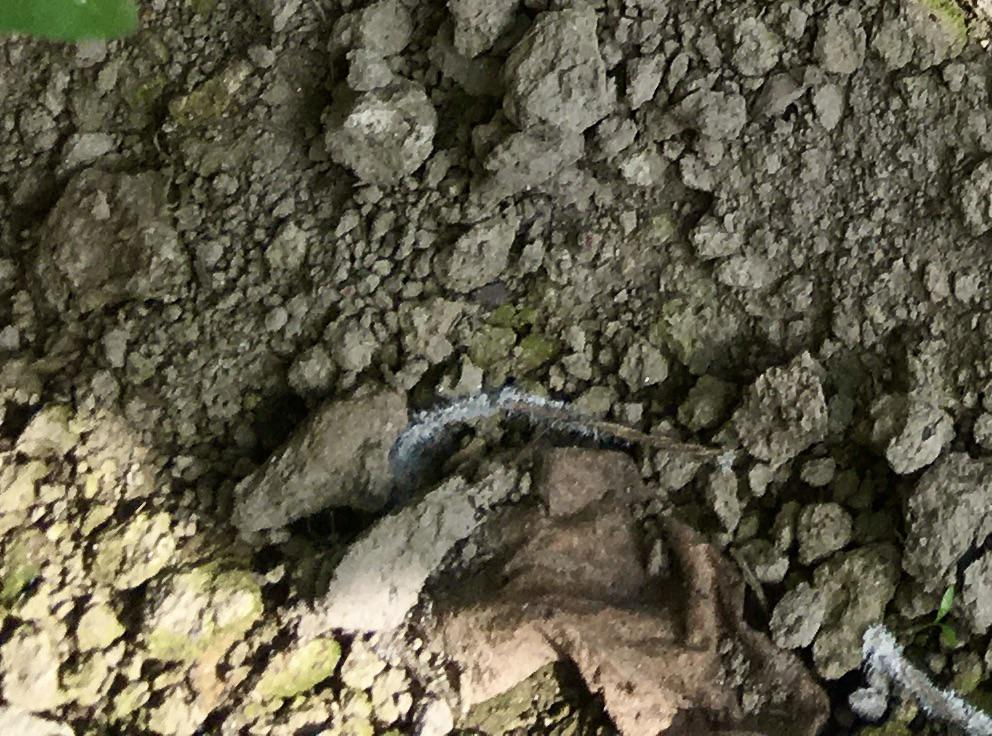block: (231, 389, 403, 530), (502, 10, 615, 135), (323, 72, 435, 184)
